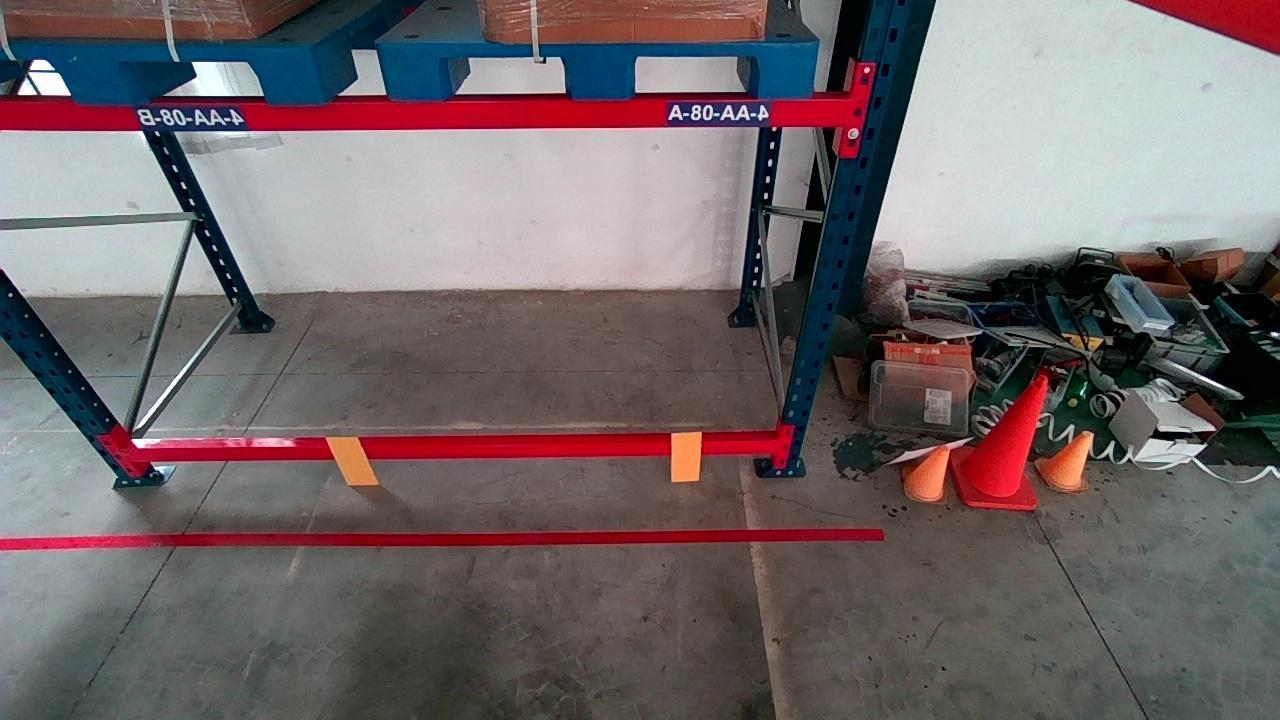h_rack: (0, 98, 848, 132), (134, 440, 776, 460)
orange_strip: (328, 435, 378, 485), (670, 430, 704, 481)
red_line: (0, 526, 883, 552)
small_pallet: (388, 38, 821, 98), (0, 43, 317, 104)
